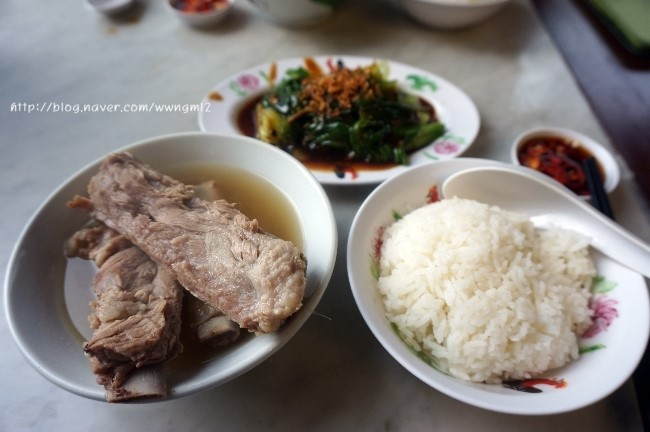plain rice: (411, 219, 565, 358)
